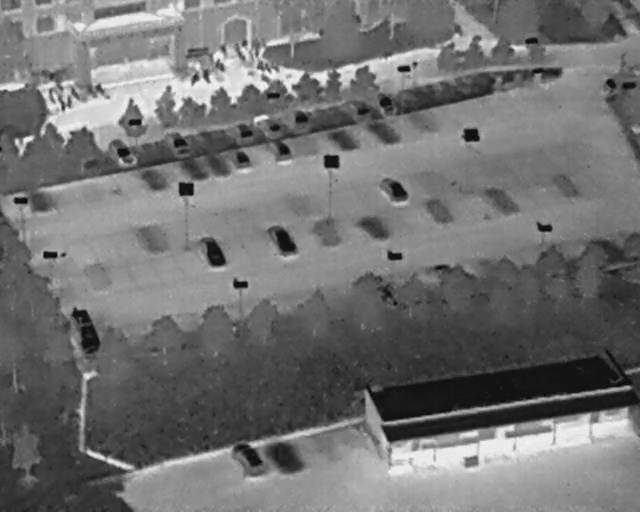Bicycle: (229, 41, 249, 66), (82, 80, 100, 102), (211, 57, 230, 77), (198, 66, 216, 87), (186, 69, 203, 89), (93, 78, 109, 98), (66, 84, 83, 102), (51, 76, 67, 94), (55, 95, 68, 114), (216, 42, 230, 58), (45, 87, 58, 104), (270, 59, 283, 75), (254, 59, 267, 74), (259, 72, 273, 85), (261, 62, 274, 75), (253, 41, 262, 57), (65, 92, 73, 108), (240, 39, 250, 49)
Car: (226, 435, 268, 482), (373, 169, 413, 212), (263, 218, 301, 263), (194, 231, 228, 273), (104, 132, 138, 172), (250, 107, 285, 144), (161, 125, 194, 162), (343, 91, 375, 124), (265, 135, 295, 166), (371, 85, 398, 119), (233, 117, 257, 146), (288, 103, 312, 131), (230, 146, 253, 172)
